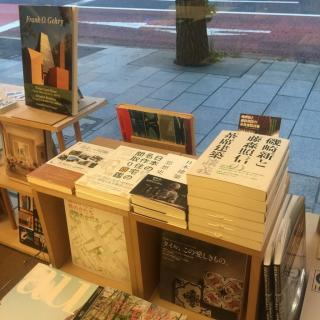book: (157, 228, 250, 319), (18, 3, 78, 115), (66, 195, 130, 286), (75, 145, 158, 212), (26, 141, 116, 197), (15, 194, 47, 257)
